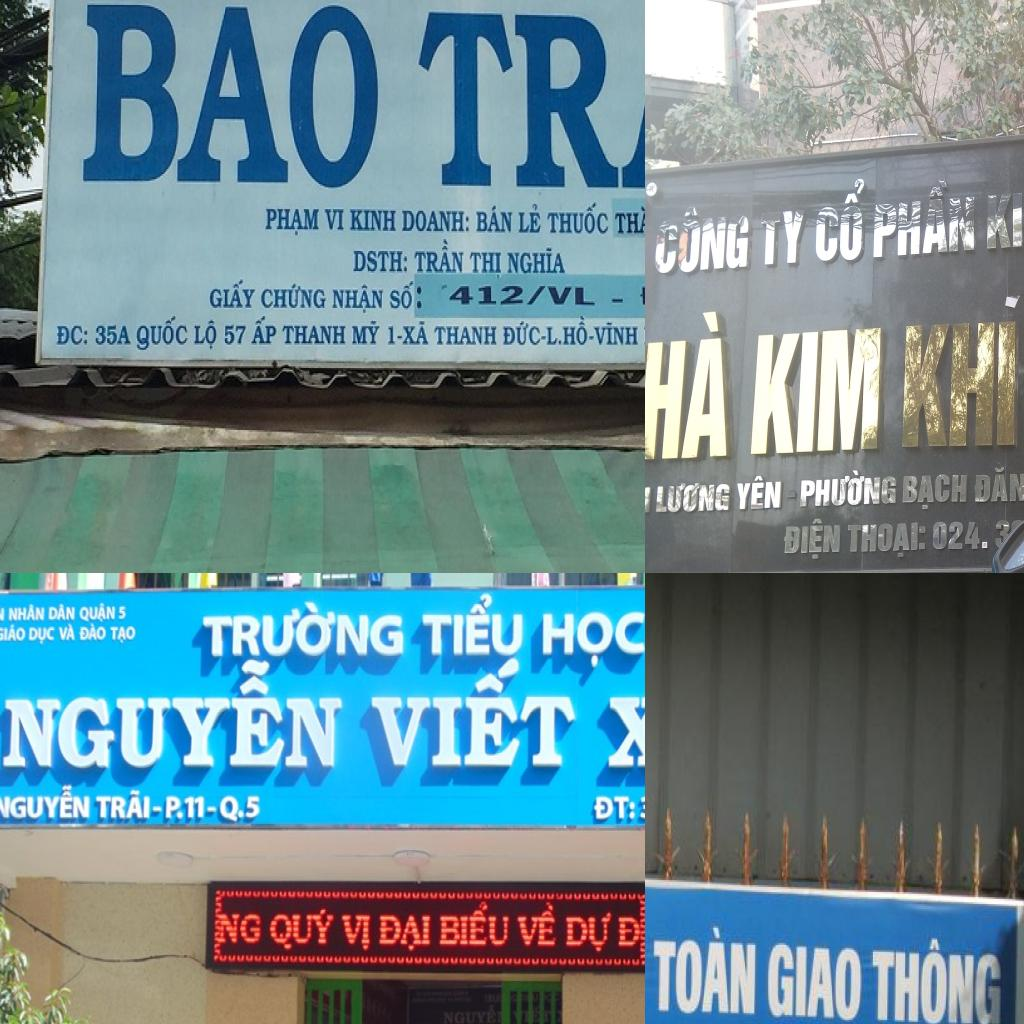text: (81, 0, 384, 190), (414, 0, 645, 194), (2, 658, 342, 770), (371, 656, 576, 769), (750, 326, 883, 456), (901, 320, 1017, 448), (645, 310, 728, 464), (869, 938, 1010, 1024), (203, 602, 404, 658), (649, 923, 762, 1020), (766, 931, 866, 1024), (873, 177, 976, 259), (654, 202, 752, 276), (422, 592, 524, 657), (543, 612, 645, 668), (815, 176, 865, 264), (447, 282, 598, 310), (799, 468, 897, 508), (439, 900, 510, 948), (845, 520, 927, 560), (0, 784, 91, 819), (760, 208, 807, 267), (270, 909, 336, 951), (654, 482, 732, 515), (781, 518, 842, 560), (901, 474, 968, 511), (932, 519, 1010, 550), (986, 187, 1024, 250), (546, 201, 610, 236), (135, 314, 190, 354), (567, 910, 614, 954), (413, 236, 467, 274), (380, 914, 432, 952), (259, 283, 328, 311), (514, 902, 556, 948), (506, 246, 569, 276), (972, 466, 1024, 502), (330, 283, 386, 316), (401, 209, 471, 234), (209, 276, 259, 311), (736, 475, 784, 511), (264, 208, 320, 238), (96, 790, 151, 820), (546, 314, 595, 346), (281, 324, 348, 346), (433, 324, 499, 346), (352, 250, 409, 274), (218, 914, 262, 944), (502, 320, 548, 348), (349, 208, 398, 234), (475, 204, 515, 234), (594, 320, 640, 346), (220, 795, 260, 823), (467, 251, 504, 281), (612, 202, 645, 235), (390, 280, 424, 312), (342, 916, 372, 952), (443, 1005, 498, 1024), (594, 797, 636, 821), (166, 796, 206, 820), (250, 314, 279, 346), (94, 325, 134, 348), (517, 202, 544, 236), (192, 320, 219, 353), (79, 602, 117, 624), (350, 320, 382, 346), (56, 325, 90, 348), (8, 604, 46, 623), (618, 917, 640, 948), (224, 325, 250, 348), (49, 603, 77, 622), (324, 208, 346, 232), (79, 623, 108, 641), (110, 626, 137, 645), (28, 627, 56, 645), (0, 624, 27, 642), (388, 325, 405, 348), (58, 625, 76, 642), (645, 486, 651, 514), (118, 607, 128, 620), (0, 606, 6, 623), (648, 184, 656, 194)
